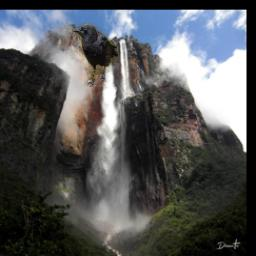Crow: (72, 23, 118, 87)
